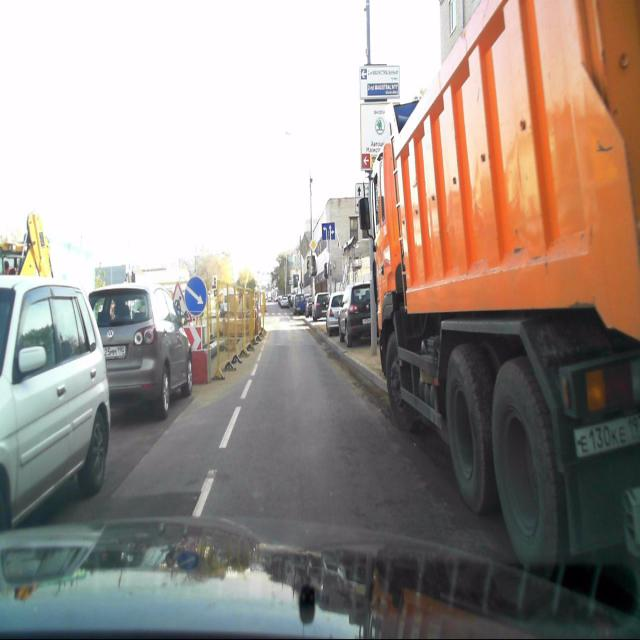road sign: (170, 277, 186, 324), (322, 220, 335, 240)
